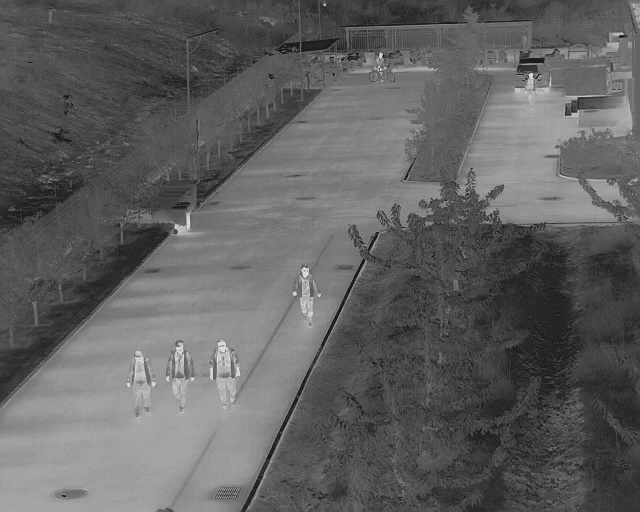NonMotorVehicle: (367, 51, 397, 86)
person: (207, 338, 242, 413), (165, 339, 196, 416), (127, 350, 157, 422), (292, 263, 322, 329), (525, 72, 537, 110)
vehicle: (511, 59, 554, 94)
